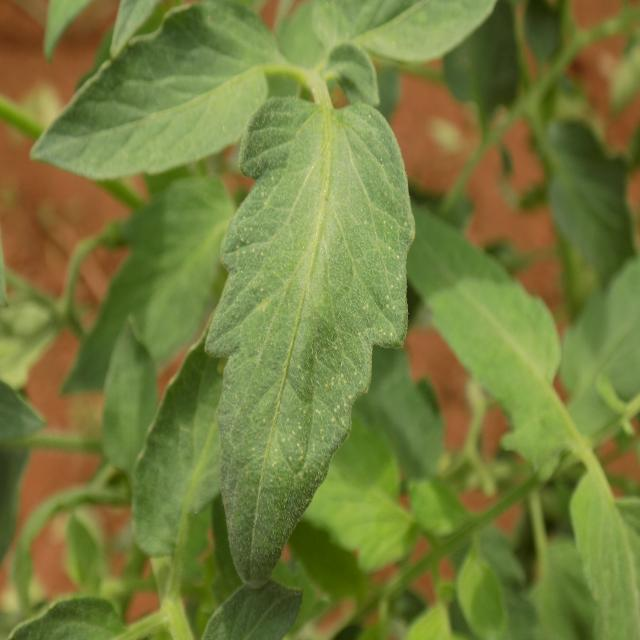tomato_healthy: (206, 88, 416, 587), (388, 194, 586, 486), (30, 0, 271, 176)
